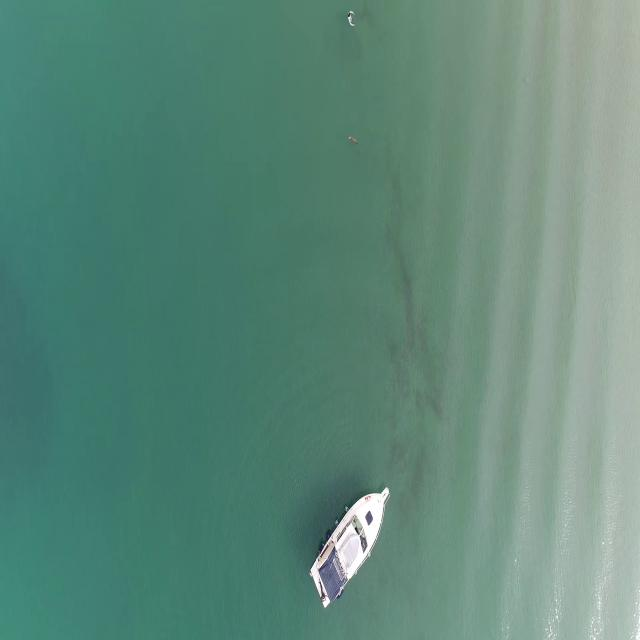boat: (312, 481, 391, 614)
person: (348, 6, 358, 30)
wood: (348, 132, 360, 146)
